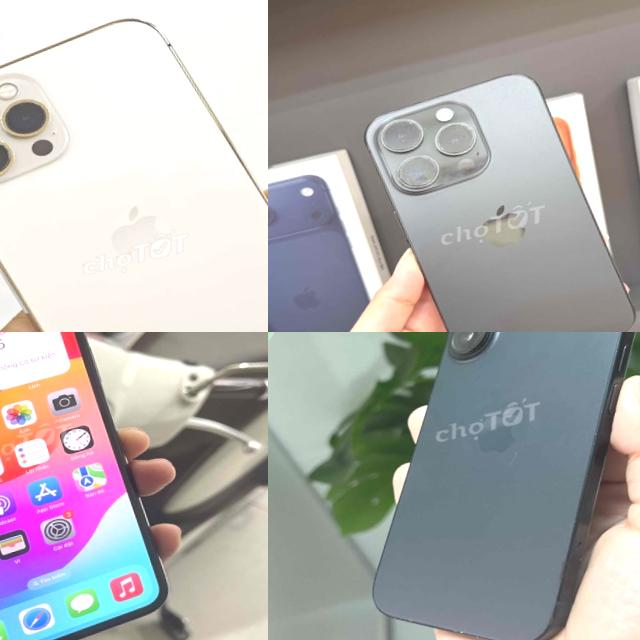gen_11: (0, 332, 167, 640)
gen_12_13: (0, 19, 268, 332)
gen_15: (361, 46, 640, 332)
gen_16: (372, 332, 633, 640)
